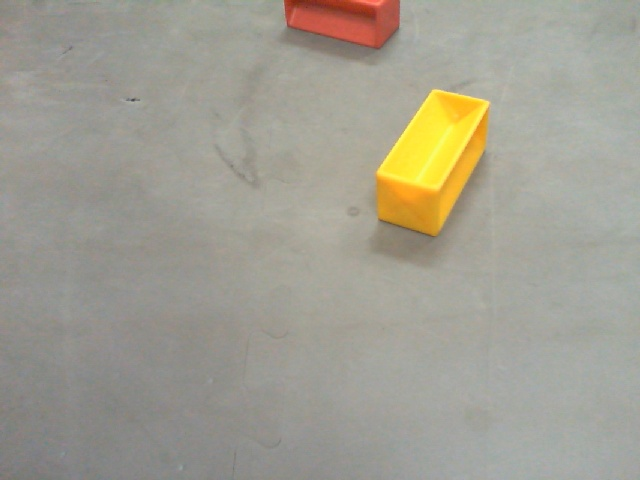RedSample: (277, 1, 402, 50)
YellowSample: (376, 91, 490, 230)
